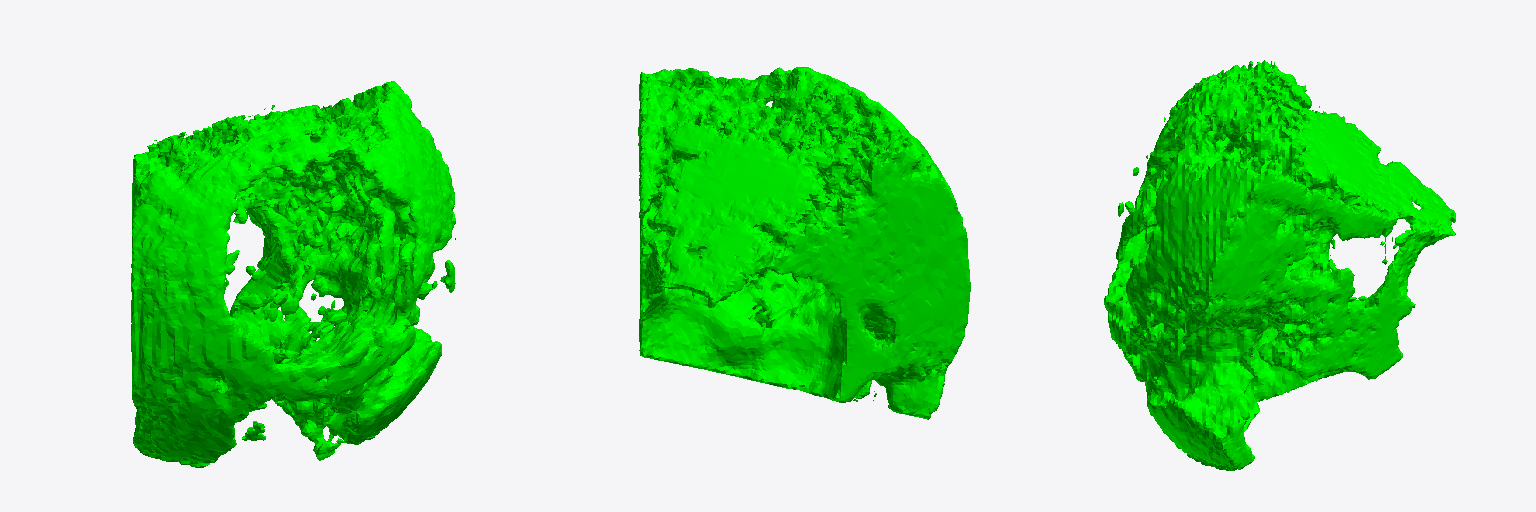
The model's file is B939XXXX-1_base_39.obj.
The picture shows the model from 3 angles: view 1: azimuth 30°, elevation 25°; view 2: azimuth 150°, elevation 25°; view 3: azimuth 270°, elevation 25°; orthographic projection.
Visible parts, largest first — view 1: 39_base; view 2: 39_base; view 3: 39_base.
Part boxes in pixels (bbox=[...]): 39_base: bbox=[131, 81, 455, 467]; 39_base: bbox=[638, 67, 970, 419]; 39_base: bbox=[1104, 60, 1455, 470].
Size of the model in its own units: 219 by 218 by 204.